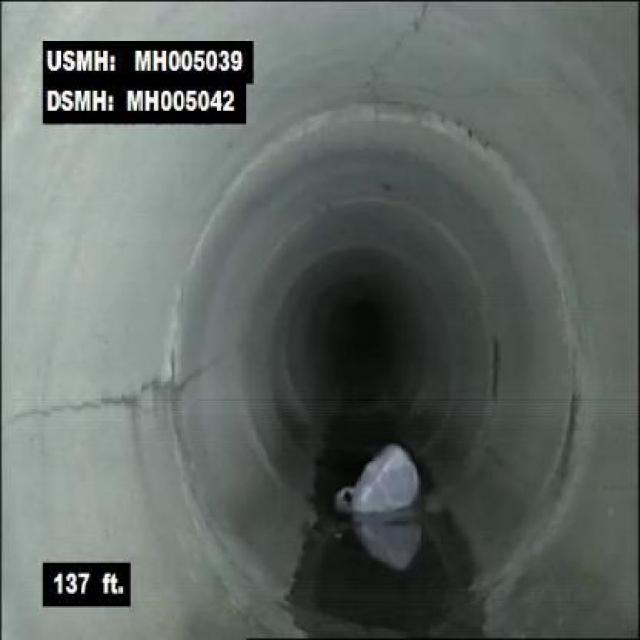Crack: (6, 378, 157, 429), (368, 6, 437, 72)
Joint offset: (383, 94, 509, 166), (248, 95, 377, 163)
